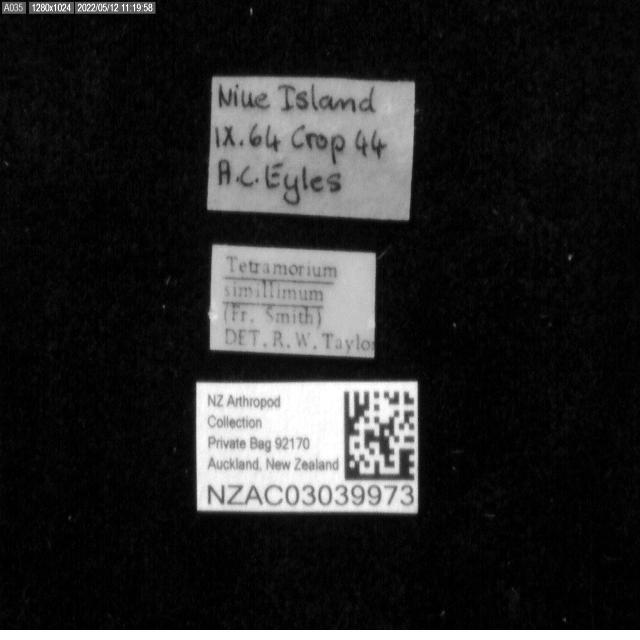hand_label: (208, 77, 415, 220)
typed_label: (196, 381, 419, 514), (209, 245, 376, 358)
